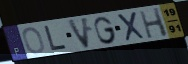G: (93, 16, 118, 46)
H: (138, 6, 170, 40)
L: (43, 24, 69, 52)
O: (21, 26, 46, 55)
V: (65, 16, 92, 50)
X: (115, 11, 148, 43)
